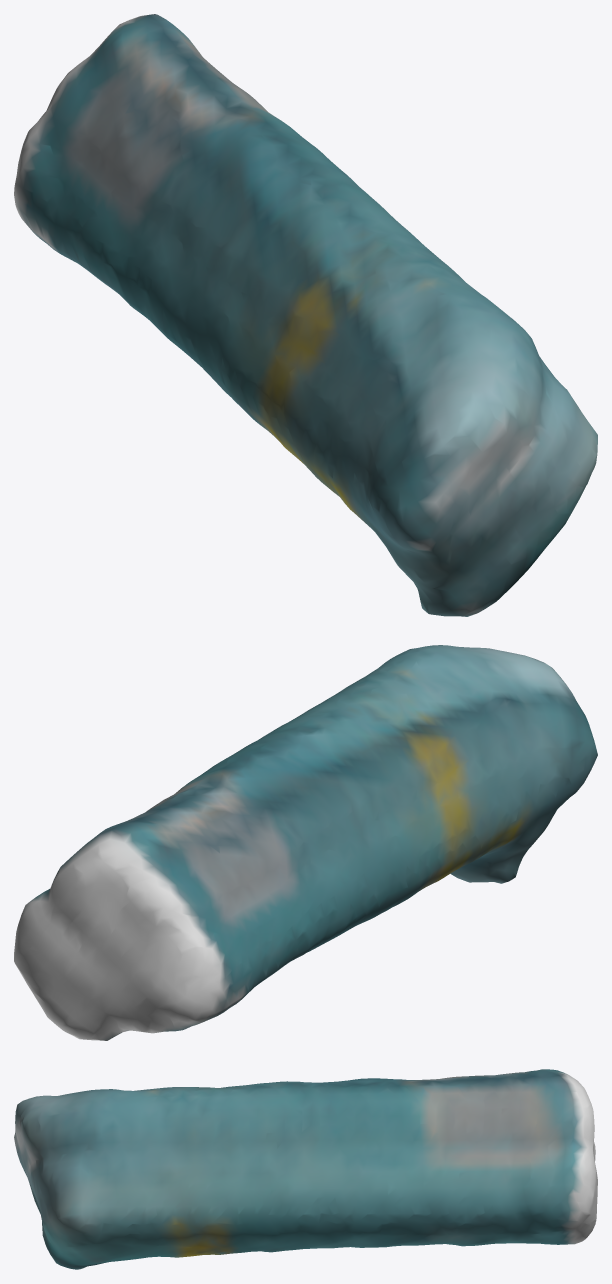
File: oil.glb
3 views of the same model, one above another, from view 1: azimuth 30°, elevation 25°; view 2: azimuth 150°, elevation 25°; view 3: azimuth 270°, elevation 25° (orthographic). The views are drawn at different scales.
Size of the model in its own units: 0.3397 by 0.3963 by 0.9998.
